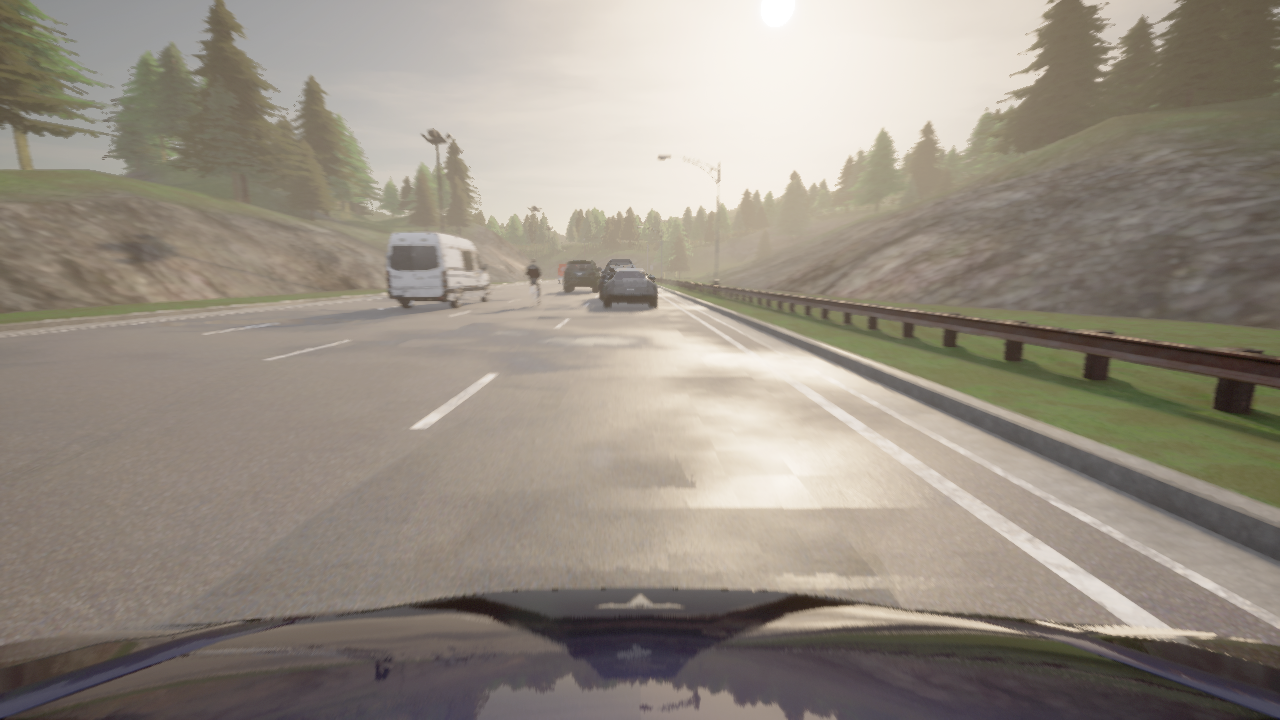cyclist: (0, 588, 1279, 719), (387, 232, 490, 308), (603, 270, 657, 307), (600, 260, 635, 299), (564, 261, 600, 292), (530, 285, 540, 307), (557, 263, 567, 283)
